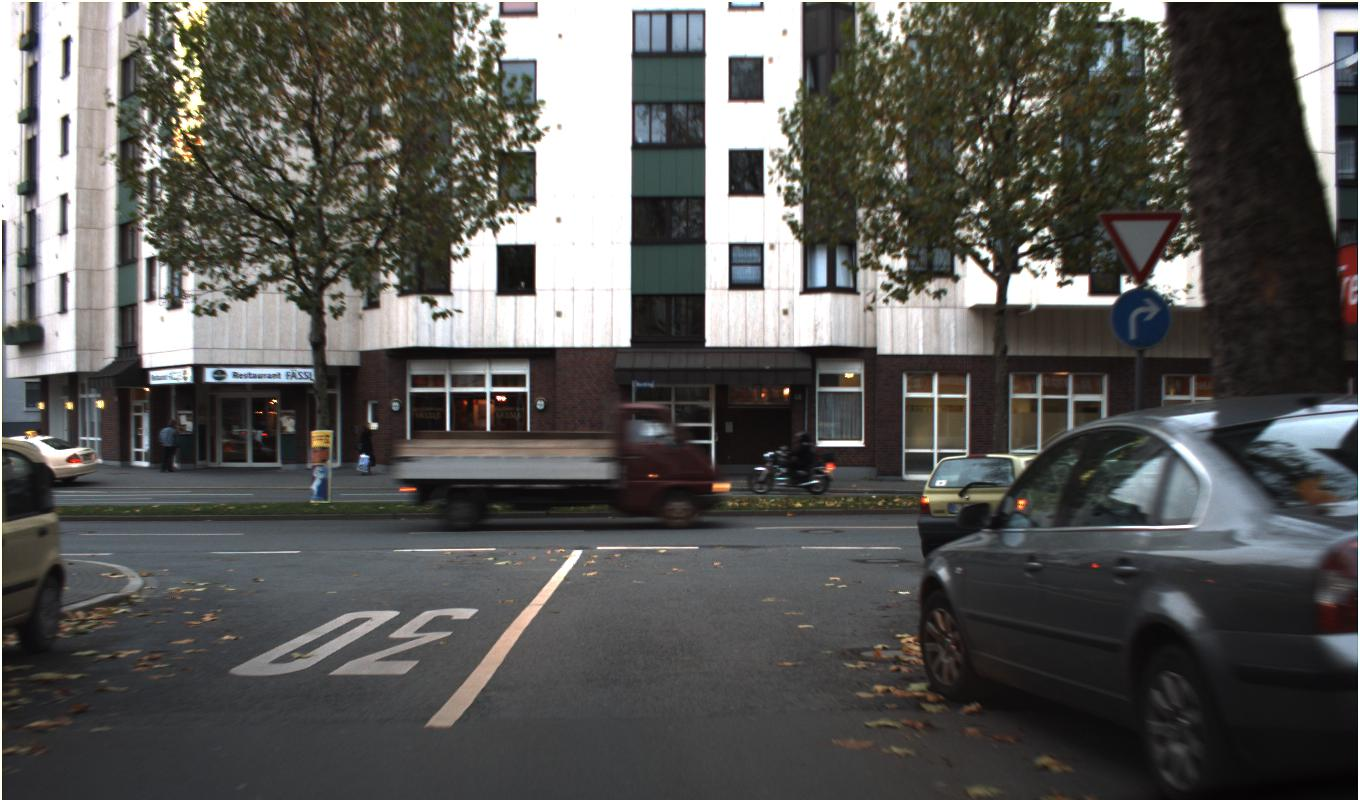mandatory: (1110, 287, 1170, 348)
sign: (1097, 210, 1184, 287)
